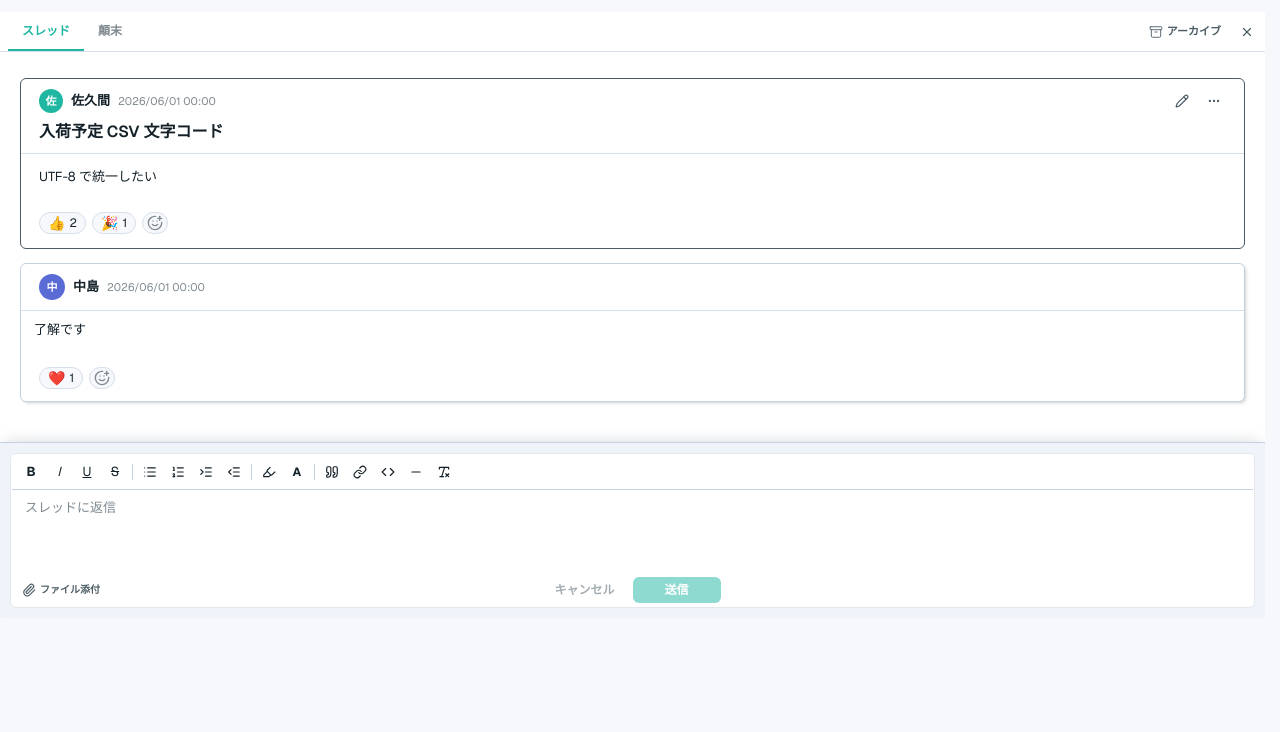
ChatThread — テーマ編集の配線（0041） › 編集ボタンで題名 input + 説明エディタの編集フォームを開く
This screenshot has width=1280, height=732.
What coordinates should you click on to do the following:
click the button named "編集"
I would click on:
 (1182, 101)
Its box is [1170,89,1194,113].
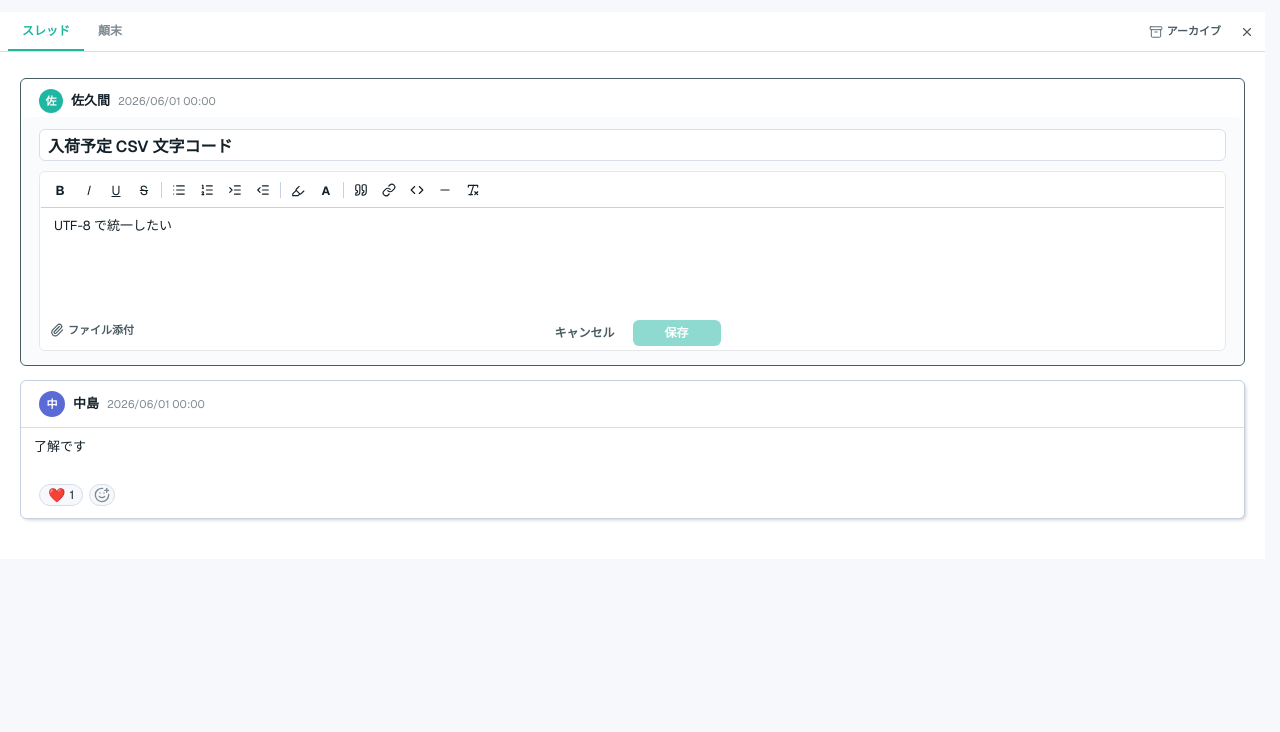
Expected: the field named "テーマ題名" holds "入荷予定 CSV 文字コード", [39,129,1226,161]
Expected: the field named "テーマ説明" is shown, [54,217,172,234]
